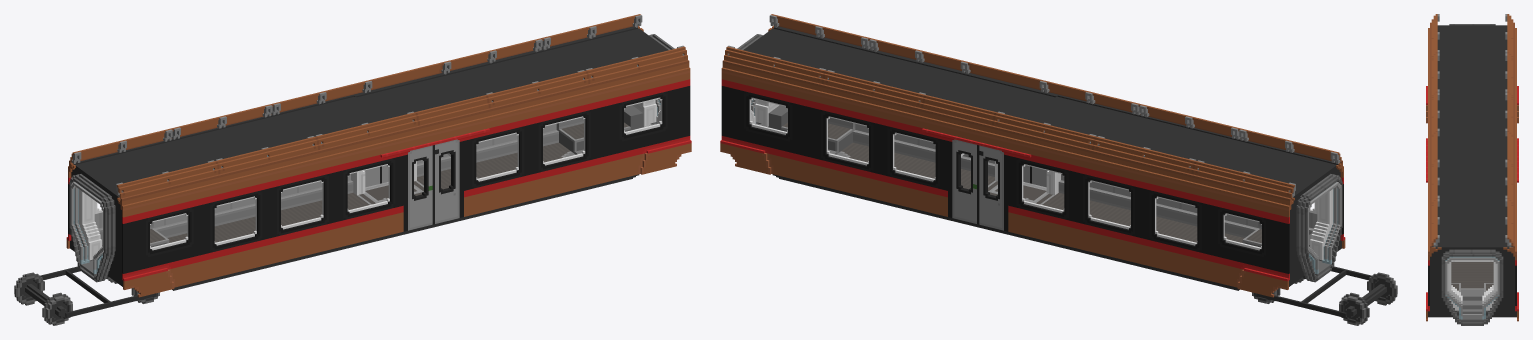
The model's file is traverso_3.obj.
3 views of the same model, side by side, from view 1: azimuth 30°, elevation 25°; view 2: azimuth 150°, elevation 25°; view 3: azimuth 270°, elevation 25° (orthographic). The views are drawn at different scales.
Parts seen in each view (by area): view 1: FRAME_1, FRAME_2, INTERIOR_LCG_il_LINVERT_1, INTERIOR_LCG_il_LINVERT_2, doors, BOGEY_FRONT_WHEEL_1, BOGEY_FRONT; view 2: FRAME_1, FRAME_2, INTERIOR_LCG_il_LINVERT_1, INTERIOR_LCG_il_LINVERT_2, doors, BOGEY_FRONT_WHEEL_1, BOGEY_FRONT; view 3: FRAME_2, FRAME_1, INTERIOR_LCG_il_LINVERT_2.
Part boxes in pixels (x1,y1,x2,y2): FRAME_1: [66, 83, 406, 297]; FRAME_2: [353, 14, 691, 234]; INTERIOR_LCG_il_LINVERT_1: [70, 164, 389, 276]; INTERIOR_LCG_il_LINVERT_2: [351, 97, 662, 204]; doors: [364, 139, 459, 230]; BOGEY_FRONT_WHEEL_1: [14, 272, 72, 325]; BOGEY_FRONT: [40, 266, 155, 317]; FRAME_1: [1005, 83, 1345, 297]; FRAME_2: [720, 14, 1058, 234]; INTERIOR_LCG_il_LINVERT_1: [1022, 164, 1341, 276]; INTERIOR_LCG_il_LINVERT_2: [749, 97, 1060, 204]; doors: [952, 139, 1047, 230]; BOGEY_FRONT_WHEEL_1: [1339, 272, 1397, 325]; BOGEY_FRONT: [1256, 266, 1371, 317]; FRAME_2: [1426, 125, 1518, 325]; FRAME_1: [1426, 14, 1518, 148]; INTERIOR_LCG_il_LINVERT_2: [1445, 256, 1499, 321].
Size of the model in its own units: 19.31 by 3.81 by 3.
Materials: 1 (1 with a texture image).
